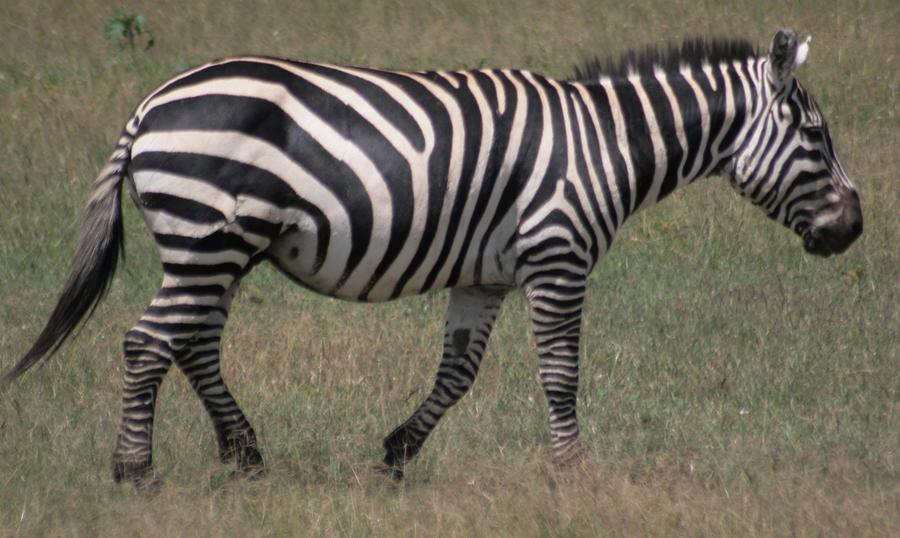zebra_plains: (136, 60, 610, 291)
